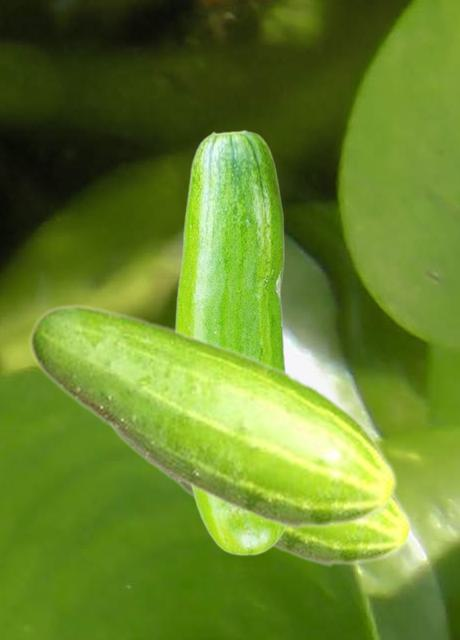cucumber: (28, 303, 398, 531), (174, 129, 287, 555), (107, 426, 412, 567)
